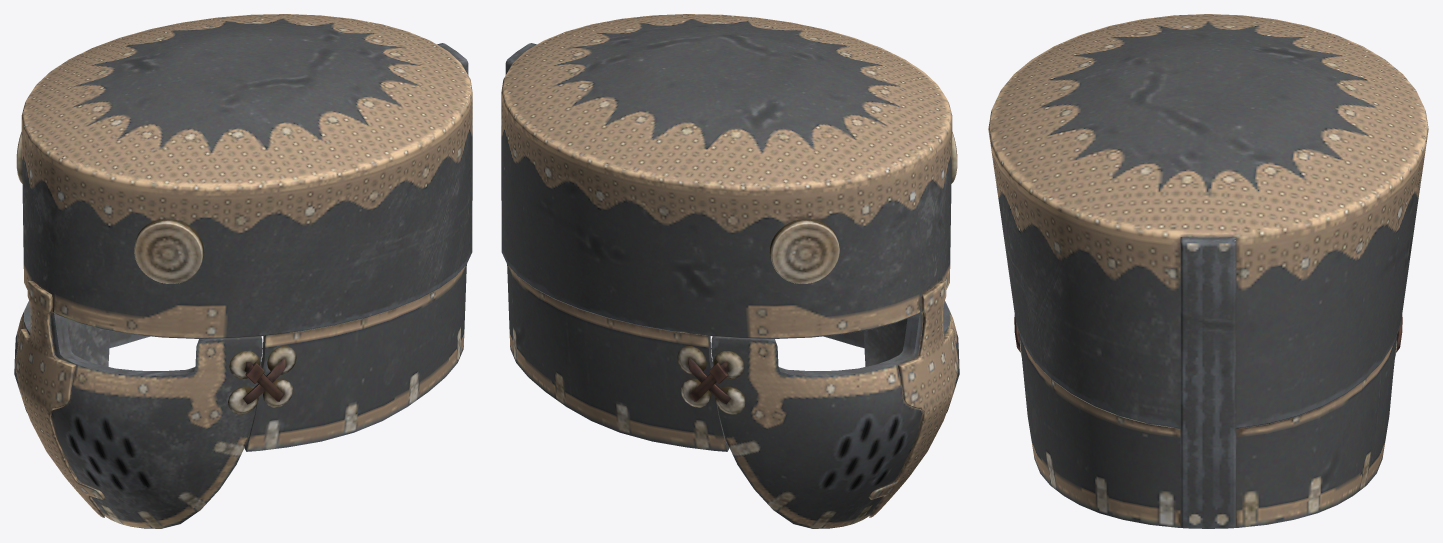
Rendered from Helmet_Tablet.fbx.
3 renders of one model, left to right at view 1: azimuth 30°, elevation 25°; view 2: azimuth 150°, elevation 25°; view 3: azimuth 270°, elevation 25°, orthographic. The views are drawn at different scales.
Parts seen in each view (by area): view 1: Helmet_Tablet_LOD0; view 2: Helmet_Tablet_LOD0; view 3: Helmet_Tablet_LOD0.
Part boxes in pixels (x1,y1,x2,y2): Helmet_Tablet_LOD0: (14,14,472,528); Helmet_Tablet_LOD0: (501,14,959,528); Helmet_Tablet_LOD0: (988,14,1428,528).
Size of what is drawn, in the model's own units: 27.93 by 26.04 by 22.17.
